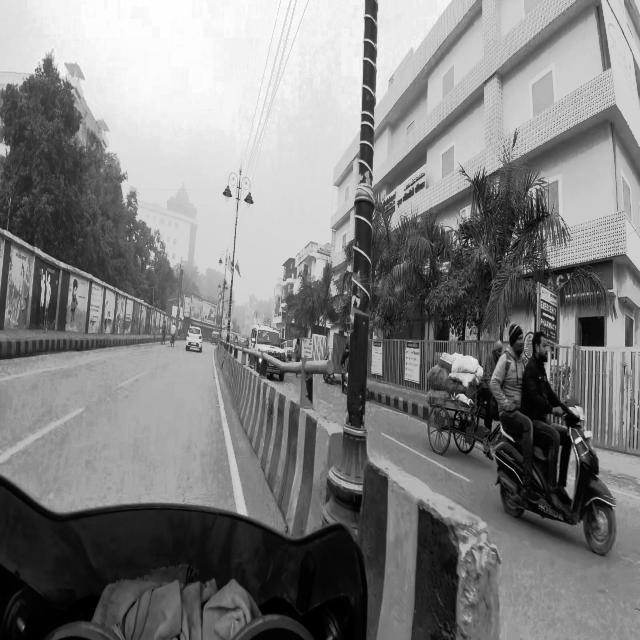Bike: (491, 320, 619, 563)
Car: (249, 323, 288, 382), (184, 326, 205, 352)
